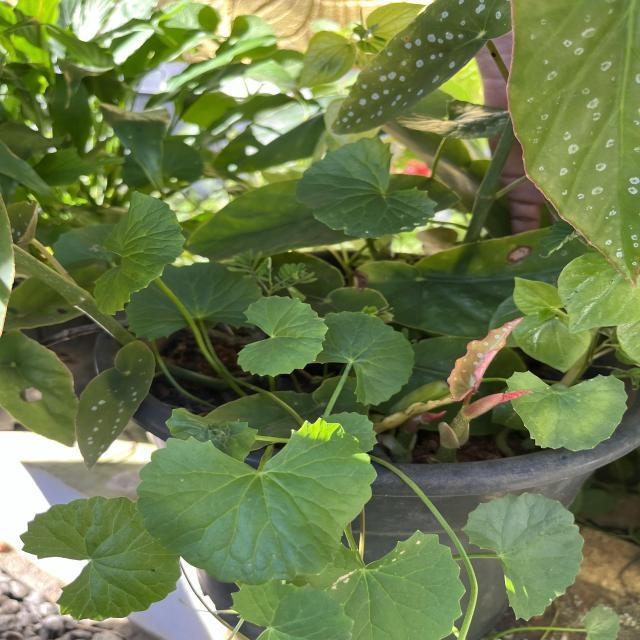Centella asiatica: (134, 415, 380, 587), (17, 494, 185, 624), (459, 488, 586, 624), (292, 132, 441, 240), (91, 188, 189, 318), (234, 294, 330, 378)
